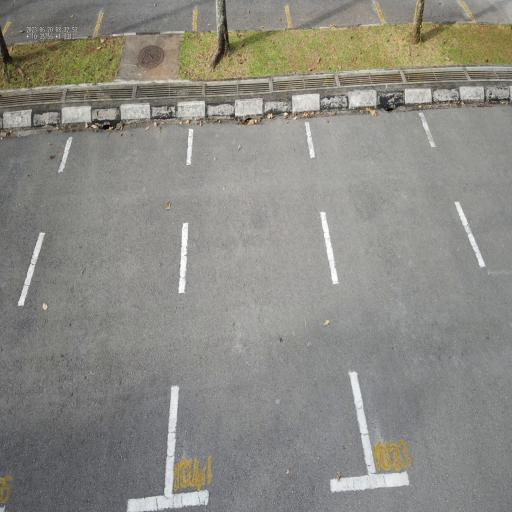Empty: (159, 114, 380, 512)
